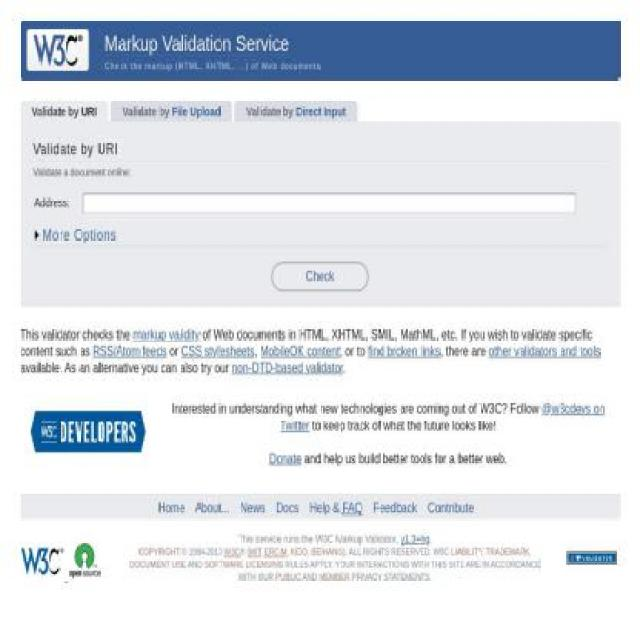button: (105, 32, 289, 56), (272, 262, 368, 292), (238, 99, 358, 121), (115, 99, 232, 121), (20, 32, 105, 56), (25, 99, 109, 121), (34, 226, 118, 245), (309, 501, 363, 516), (428, 501, 474, 516), (373, 501, 418, 516), (194, 501, 229, 516), (158, 501, 185, 516), (240, 501, 266, 516), (276, 501, 298, 516)
field: (82, 193, 576, 215)
